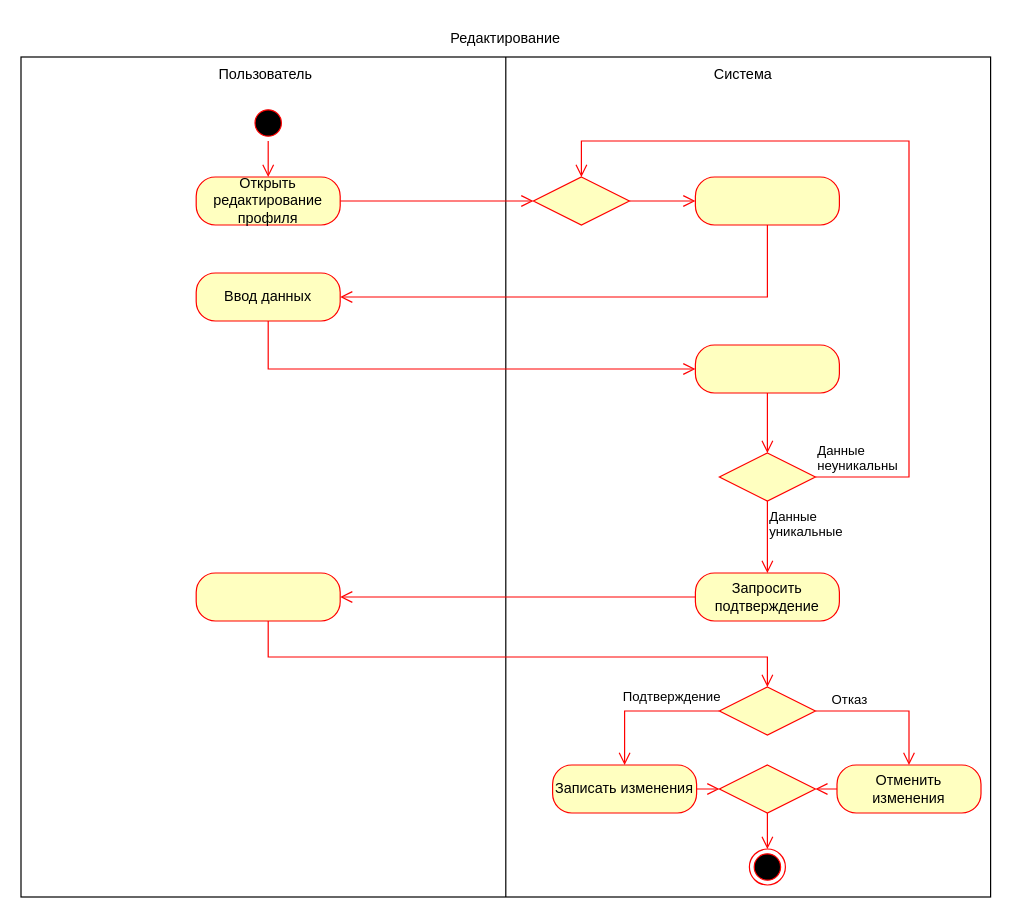
Some shapes in this 1012 by 919 pixel diagram are drawn without their labels. The shapes that lost their labels are listed below. From the top down, each one's centre as x and y in pixels, then its label:
At [766,200]: "Запрос данных".
At [766,368]: "Проверка уникальных данных".
At [267,596]: "Выбрать вариант".
